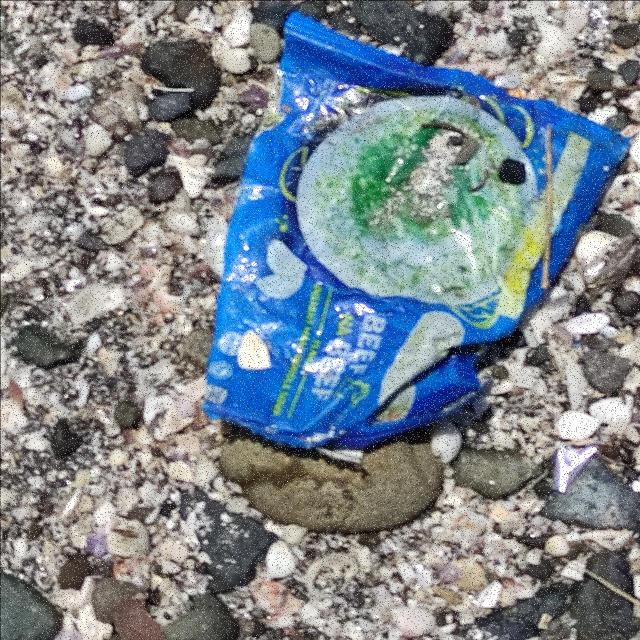plastic_waste: (199, 5, 628, 449)
